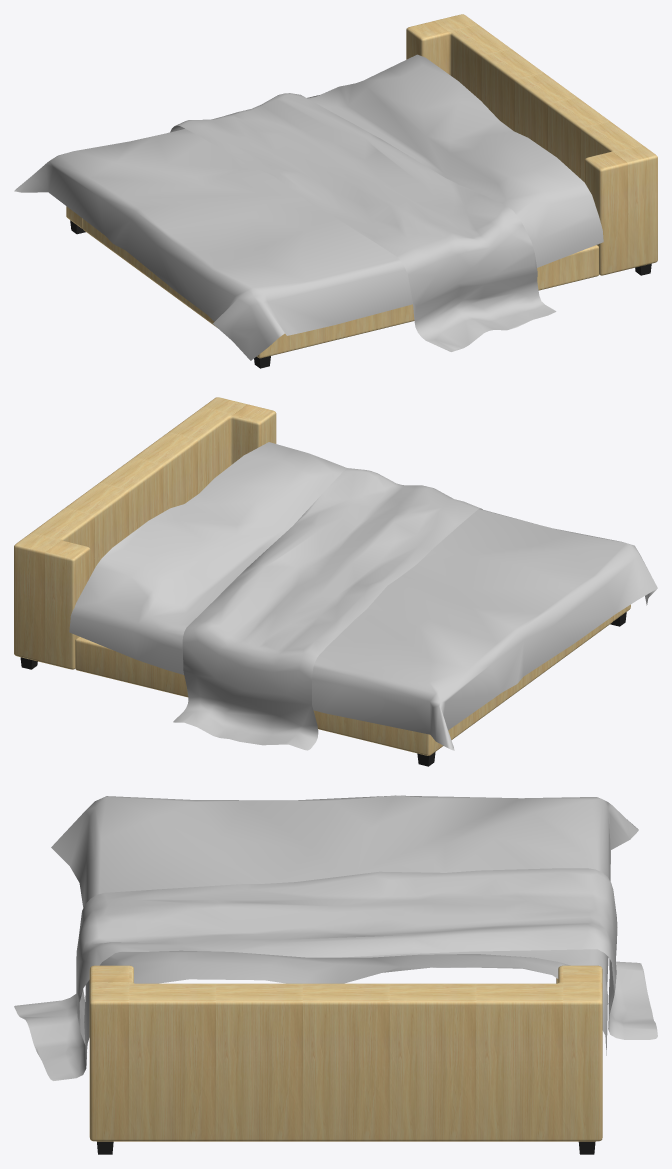
The model's file is Bed01.FBX.
3 views of the same model, one above another, from view 1: azimuth 30°, elevation 25°; view 2: azimuth 150°, elevation 25°; view 3: azimuth 270°, elevation 25° (orthographic). The views are drawn at different scales.
Visible parts, largest first — view 1: Bed01; view 2: Bed01; view 3: Bed01.
Part boxes in pixels (x1=…): Bed01: x1=14, y1=14, x2=657, y2=368; Bed01: x1=14, y1=397, x2=657, y2=766; Bed01: x1=14, y1=795, x2=657, y2=1154.
Size of the model in its own units: 240 by 62.25 by 233.
